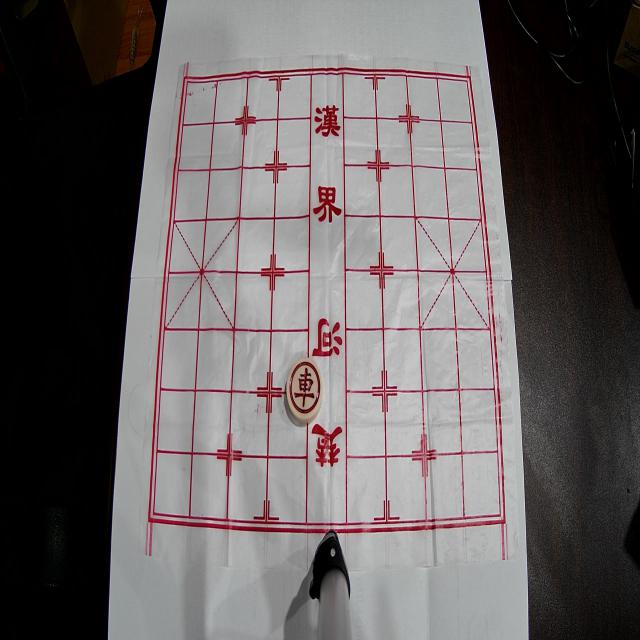red-chariot: (286, 358, 323, 423)
